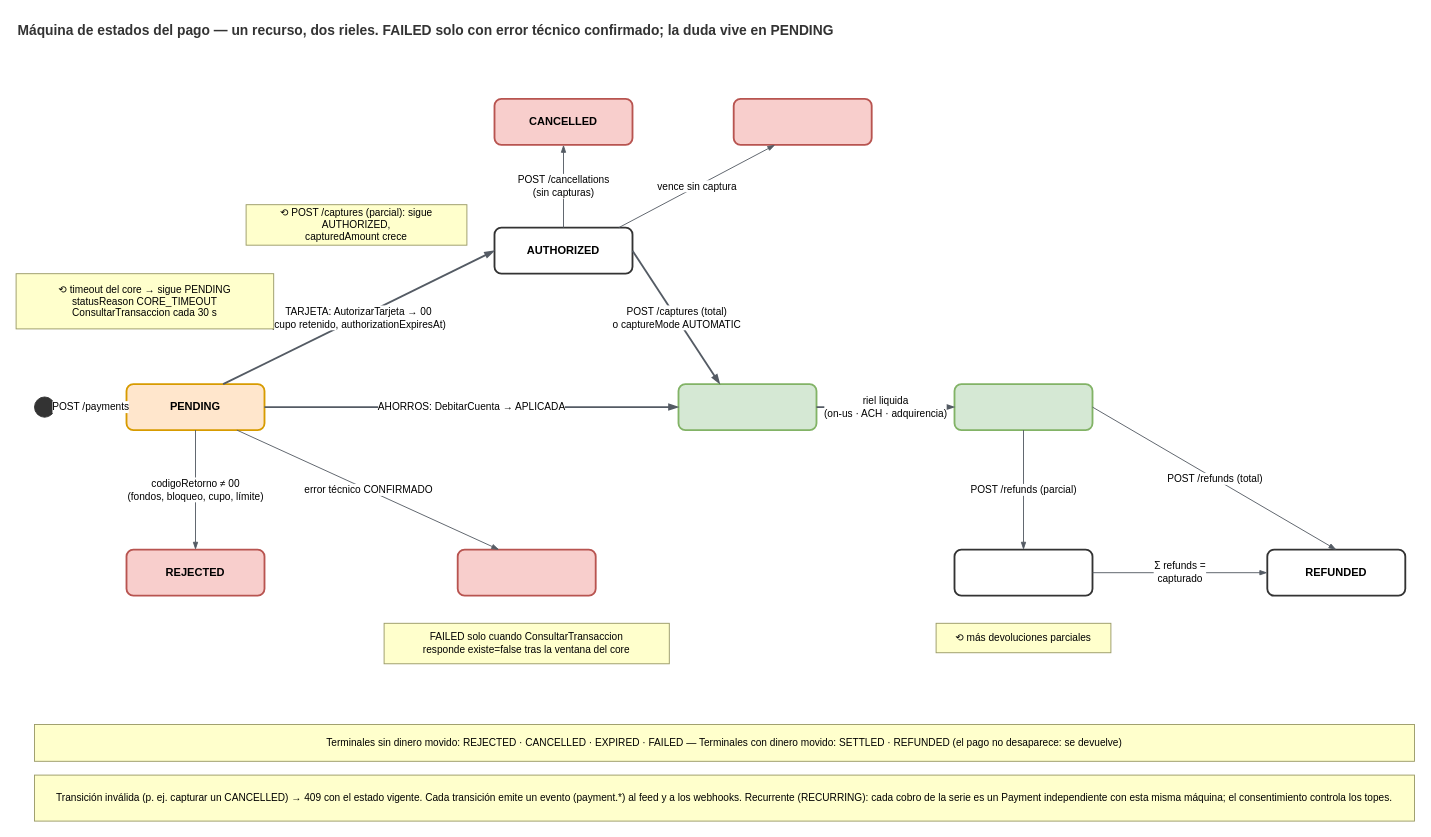
This 1431x837 diagram has some shape labels left out. Each missing label, with the centre of its shape:
"CAPTURED" goes at point (747, 407).
"EXPIRED" goes at point (802, 121).
"FAILED" goes at point (526, 572).
"PARTIALLY_ REFUNDED" goes at point (1023, 572).
"SETTLED" goes at point (1023, 407).
